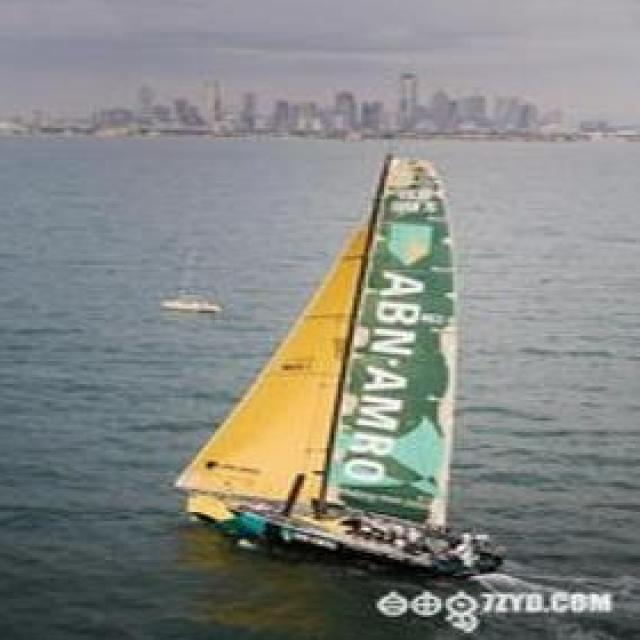houseboat: (164, 280, 224, 312)
sailboat: (186, 150, 510, 575)
